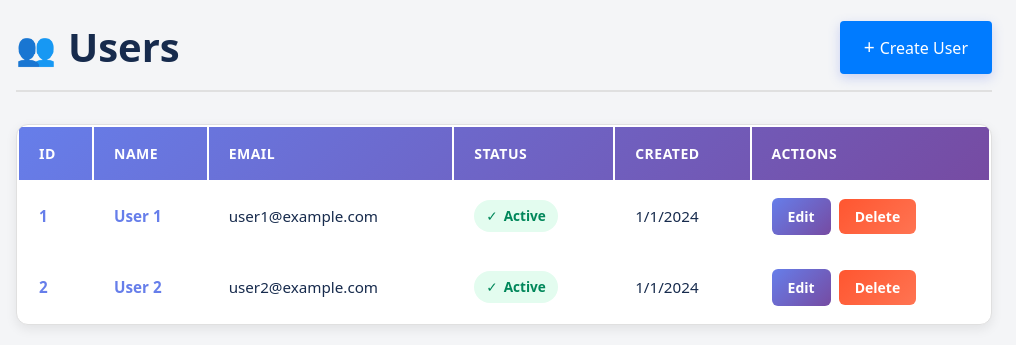
Test case: Users - Additional Coverage › should successfully delete user and update list
Expected: the link "User 1" is shown, [114,206,162,226]
Expected: the link "User 2" is shown, [114,277,162,297]
Step 1. Click the button "Delete" in the row of "User 1" → click(877, 216), box [839,199,916,234]
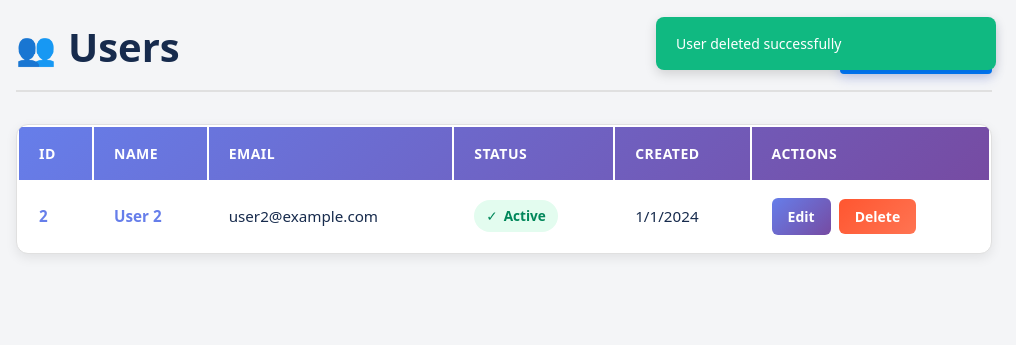
Expected: the link "User 2" is shown, [114,206,162,226]
Expected: the link "User 1" is gone
